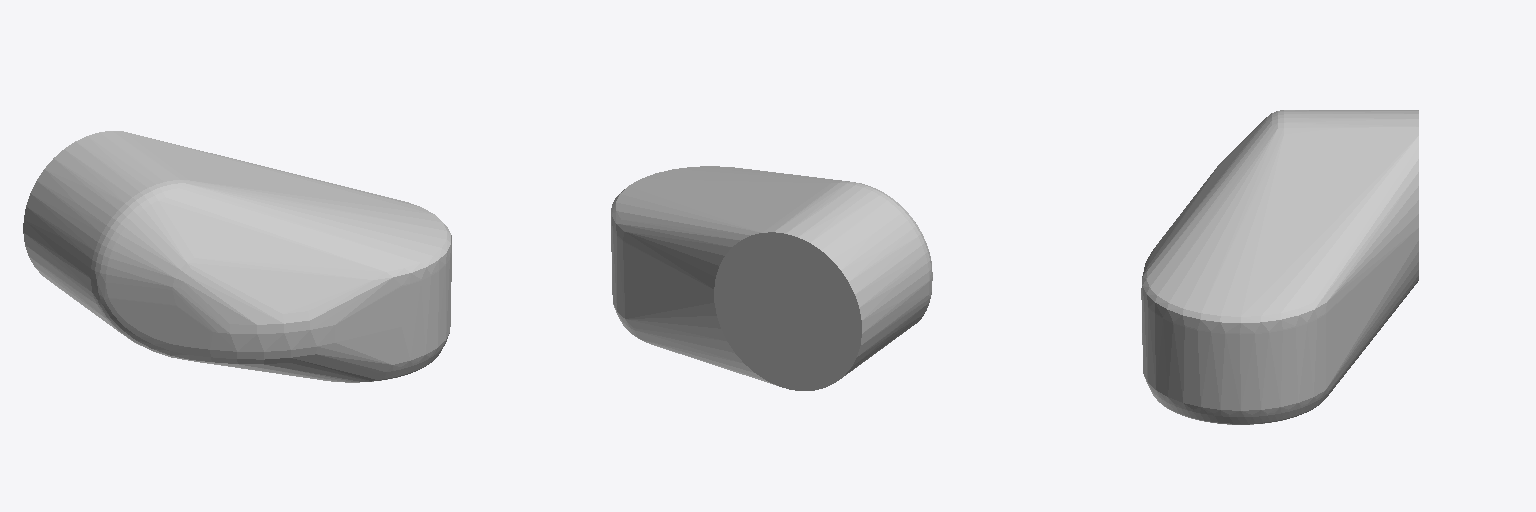
Rendered from shoulder_pan_link_collision.obj.
3 views of the same model, side by side, from view 1: azimuth 30°, elevation 25°; view 2: azimuth 150°, elevation 25°; view 3: azimuth 270°, elevation 25° (orthographic).
Bounding box in the file's own units: 0.2295 × 0.1265 × 0.1685.